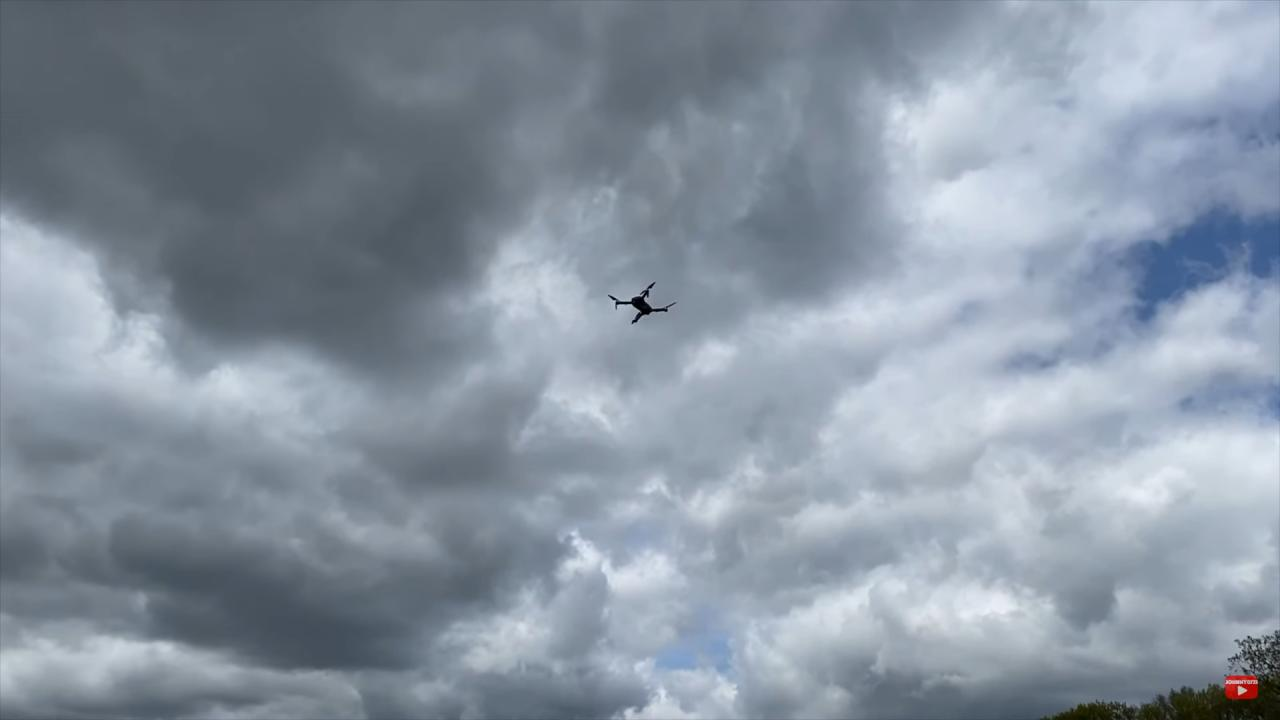Drone: (601, 273, 683, 336)
